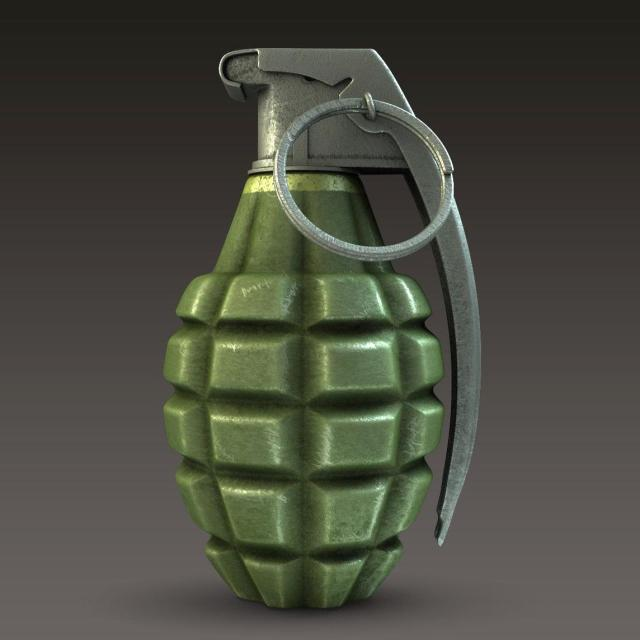grenade: (165, 47, 481, 612)
